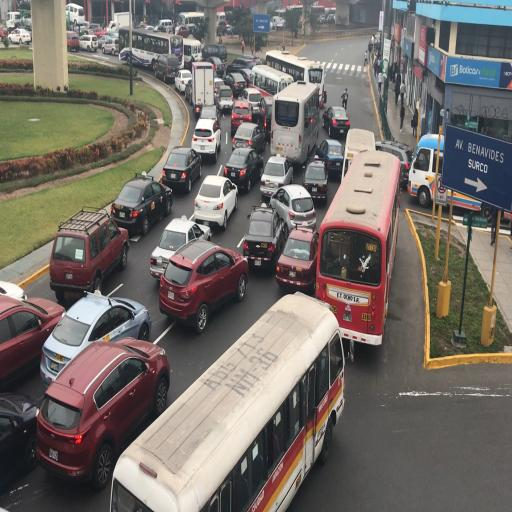auto: (37, 336, 168, 489), (42, 288, 151, 379), (157, 240, 248, 330), (49, 206, 129, 299), (1, 293, 66, 392), (34, 386, 96, 486), (110, 173, 172, 237), (0, 394, 40, 493), (150, 219, 210, 281), (242, 201, 286, 271), (276, 224, 318, 292), (192, 173, 237, 230), (269, 182, 314, 234), (160, 145, 202, 194), (223, 145, 263, 193), (376, 138, 410, 192), (259, 154, 293, 200), (190, 116, 220, 161), (317, 138, 345, 180), (231, 122, 265, 154), (230, 96, 256, 134), (322, 106, 348, 141), (257, 91, 277, 136), (154, 53, 180, 84), (238, 86, 265, 115), (224, 70, 249, 98), (214, 85, 234, 117), (0, 278, 26, 300), (204, 55, 226, 78), (230, 57, 259, 74), (174, 68, 192, 95), (8, 28, 31, 45), (178, 53, 196, 74), (102, 36, 120, 56), (79, 34, 99, 52), (85, 26, 106, 42), (6, 10, 21, 31), (66, 30, 80, 52), (174, 24, 189, 38), (105, 20, 119, 35), (21, 11, 31, 28), (0, 24, 9, 42), (216, 21, 226, 36), (82, 28, 95, 36), (136, 24, 153, 30), (226, 23, 232, 35)
bus: (188, 60, 215, 117), (114, 11, 133, 33)
moto: (112, 296, 332, 505), (316, 145, 396, 343), (408, 132, 492, 216), (270, 79, 318, 168), (266, 48, 324, 108), (341, 126, 374, 186), (248, 63, 292, 104), (180, 36, 201, 65), (180, 12, 204, 34), (65, 2, 86, 27), (153, 18, 174, 33), (271, 16, 286, 29)
